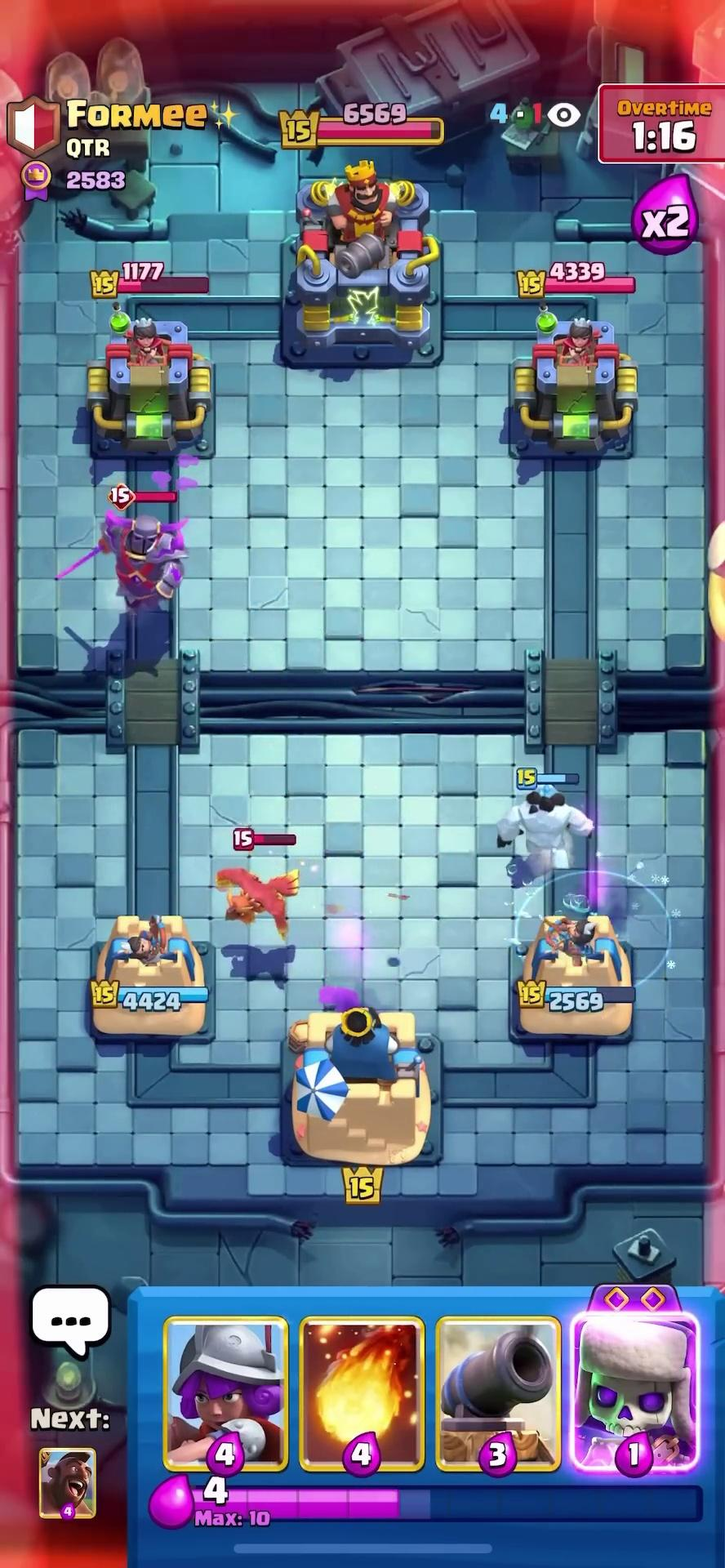ice_golem: (498, 774, 596, 860)
